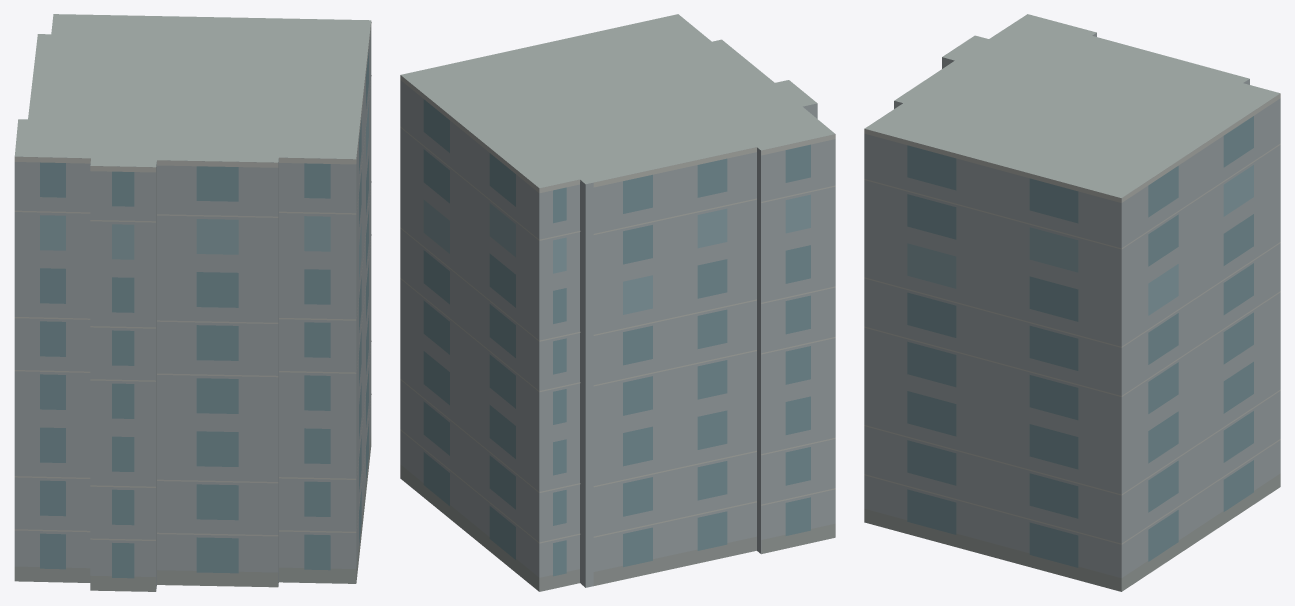
File: survey-upis-32734286.glb
The picture shows the model from 3 angles, left to right: view 1: azimuth 30°, elevation 25°; view 2: azimuth 150°, elevation 25°; view 3: azimuth 270°, elevation 25°; orthographic projection. The views are drawn at different scales.
Parts seen in each view (by area): view 1: survey-upis-32734286.tmp; view 2: survey-upis-32734286.tmp; view 3: survey-upis-32734286.tmp.
Part boxes in pixels (box(x1,y1,x2,y2)): survey-upis-32734286.tmp: box(14, 14, 371, 591); survey-upis-32734286.tmp: box(400, 14, 835, 591); survey-upis-32734286.tmp: box(864, 14, 1280, 591).
Bounding box in the file's own units: 19.69 × 19.6 × 18.8.
